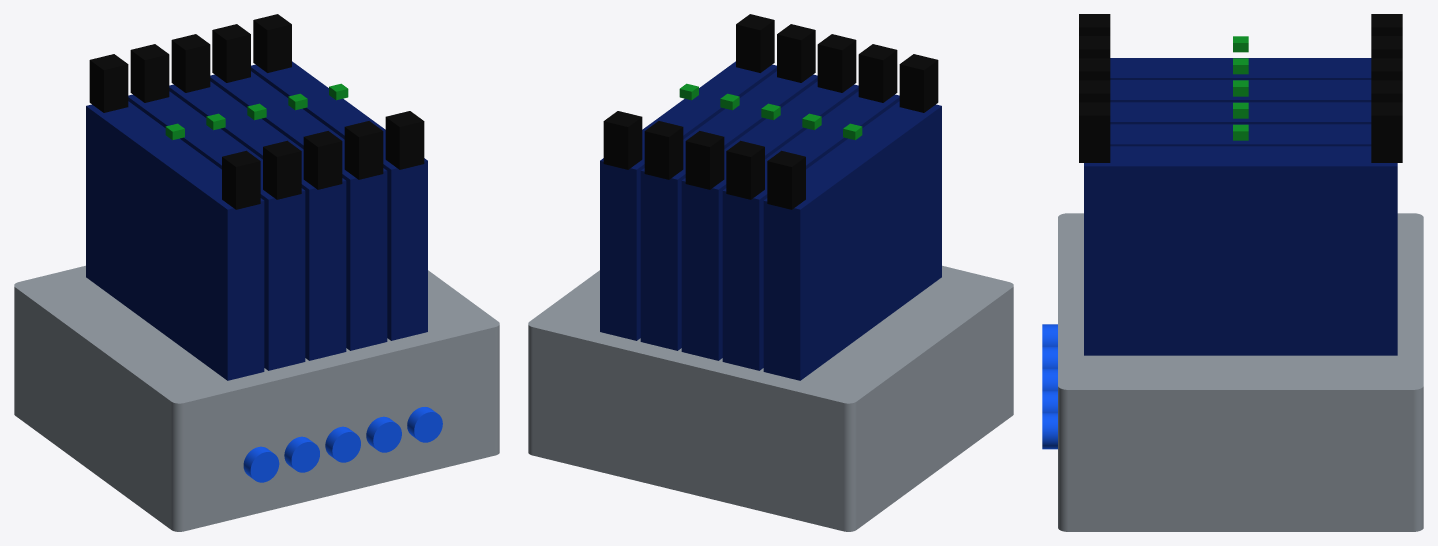
File: valve_manifold.glb
3 views of the same model, side by side, from view 1: azimuth 30°, elevation 25°; view 2: azimuth 150°, elevation 25°; view 3: azimuth 270°, elevation 25° (orthographic). The views are drawn at different scales.
Parts seen in each view (by area): view 1: manifold; view 2: manifold; view 3: manifold.
Boxes of the visible parts, x1=… form: manifold: x1=14, y1=14, x2=499, y2=531; manifold: x1=528, y1=14, x2=1013, y2=531; manifold: x1=1042, y1=14, x2=1423, y2=531.
Size of the model in its own units: 0.08 by 0.08 by 0.073.
